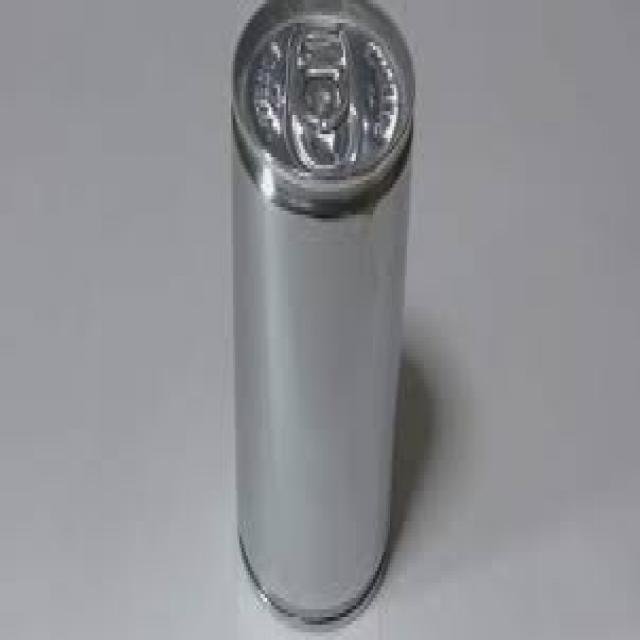recyclable: (231, 0, 413, 625)
